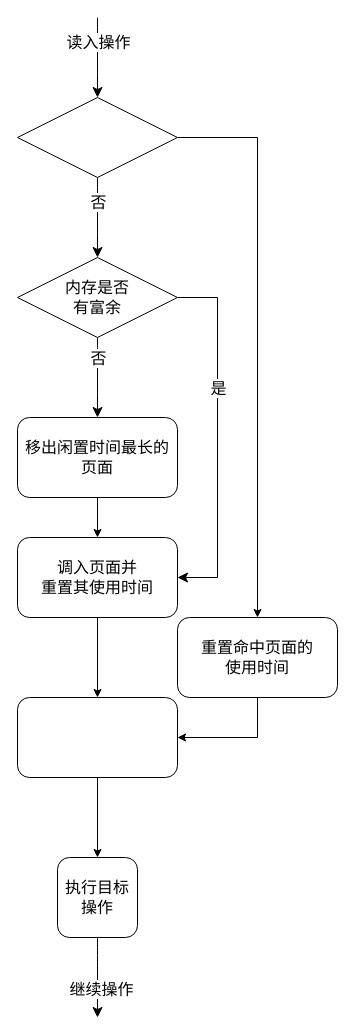
The diagram is 355 pixels wide and 1034 high, and some of its shapes have lost their labels. The shapes that lost their labels are listed below. From the top down, each one's centre as x and y in pixels, then its label:
At [97,137]: "页面是否 在内存中".
At [97,737]: "增加其他页面的 使用时间".
